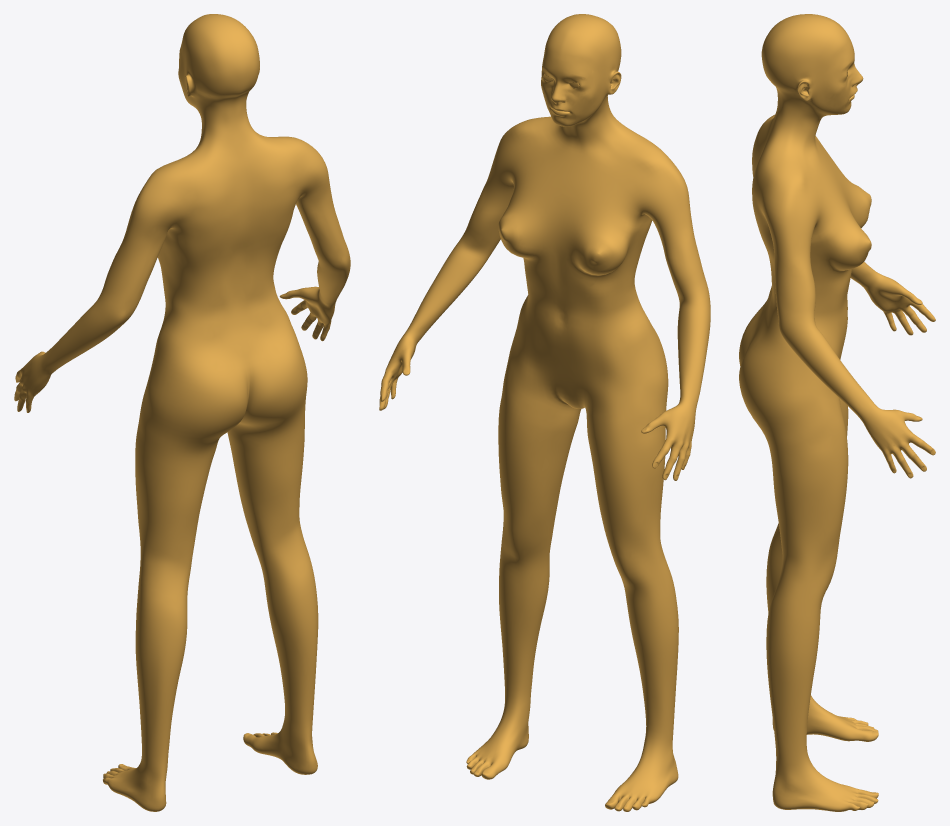
Rendered from athletic-gel-figure-v4-silhouette-chest.glb.
3 renders of one model, left to right at view 1: azimuth 30°, elevation 25°; view 2: azimuth 150°, elevation 25°; view 3: azimuth 270°, elevation 25°, orthographic.
Parts seen in each view (by area): view 1: athletic; view 2: athletic; view 3: athletic.
Boxes of the visible parts, x1,y1,x2,y2 form: athletic: (14, 14, 350, 811); athletic: (379, 14, 710, 811); athletic: (739, 14, 935, 811).
Bounding box in the file's own units: 0.7098 × 1.7 × 0.402.
